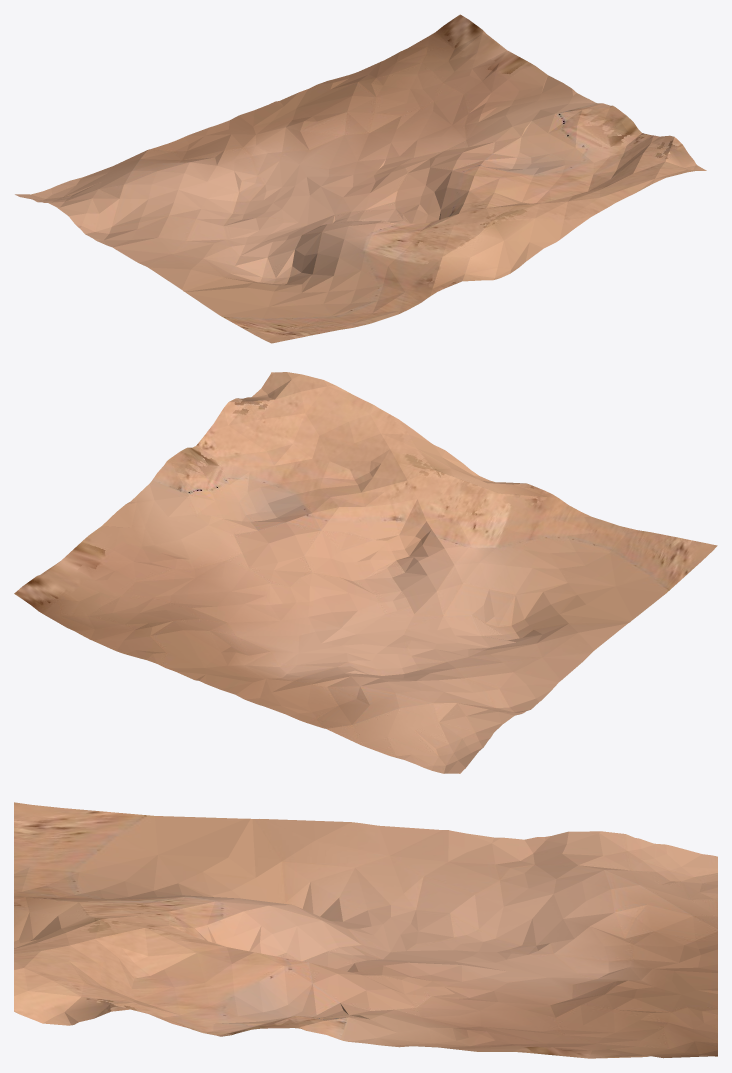
3 views of the same model, one above another, from view 1: azimuth 30°, elevation 25°; view 2: azimuth 150°, elevation 25°; view 3: azimuth 270°, elevation 25° (orthographic). The views are drawn at different scales.
Size of the model in its own units: 1.04 by 0.2534 by 1.04.
3 materials, 3 textured.
